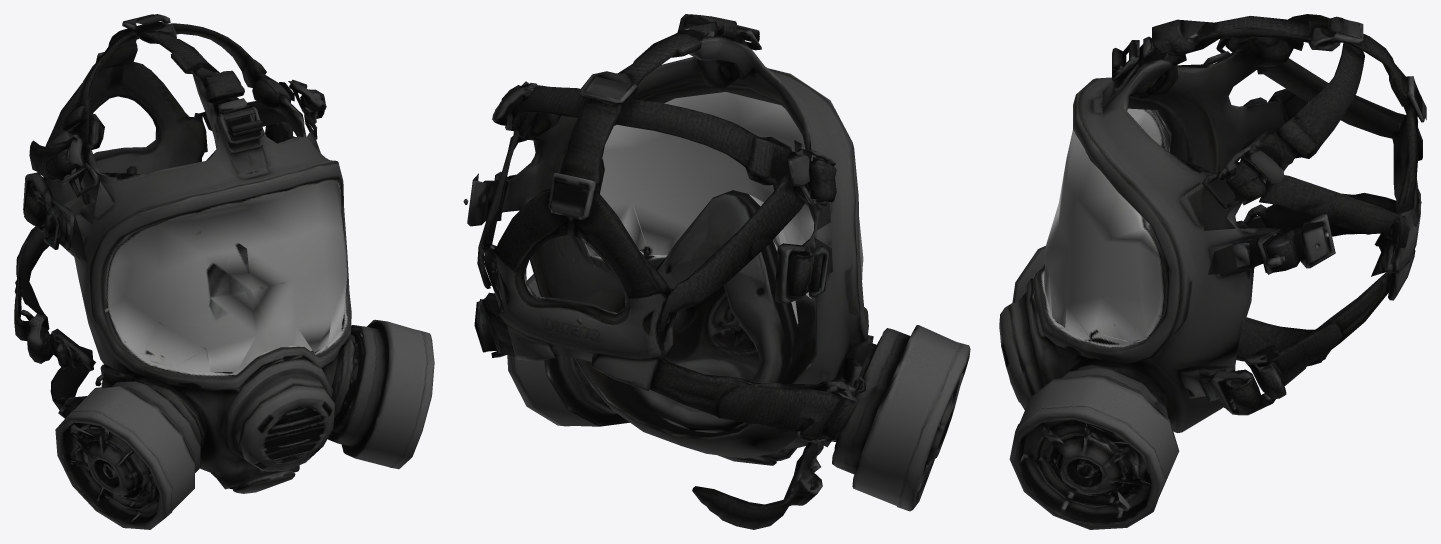
The model's file is tripo_convert_94986bd0-5f35-41bb-89a9-79ae9b5d8ab2.fbx.
3 views of the same model, side by side, from view 1: azimuth 30°, elevation 25°; view 2: azimuth 150°, elevation 25°; view 3: azimuth 270°, elevation 25° (orthographic). The views are drawn at different scales.
Visible parts, largest first — view 1: tripo_node_94986bd0; view 2: tripo_node_94986bd0; view 3: tripo_node_94986bd0.
Boxes of the visible parts, x1=… form: tripo_node_94986bd0: x1=14, y1=14, x2=434, y2=529; tripo_node_94986bd0: x1=463, y1=14, x2=970, y2=529; tripo_node_94986bd0: x1=999, y1=14, x2=1426, y2=529.
Bounding box in the file's own units: 0.9064 × 0.9792 × 0.8643.
